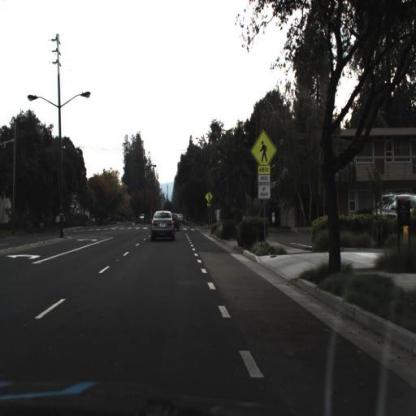car: (372, 192, 416, 239), (149, 209, 179, 246), (172, 210, 180, 237)
